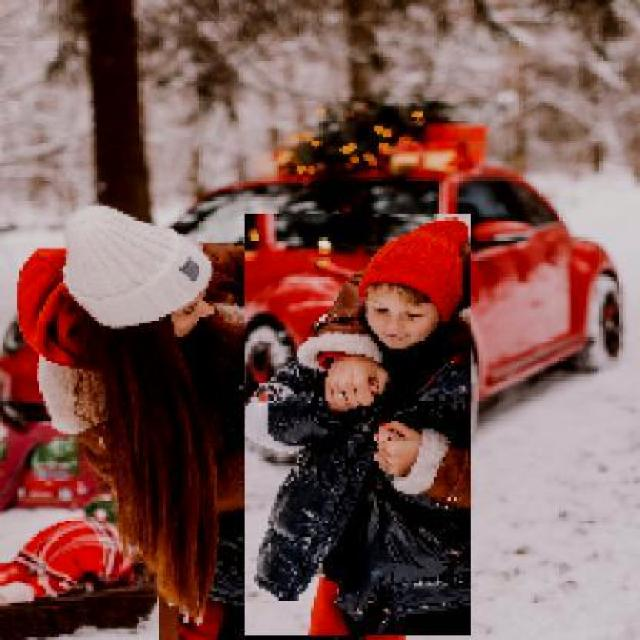child: (243, 214, 471, 637)
